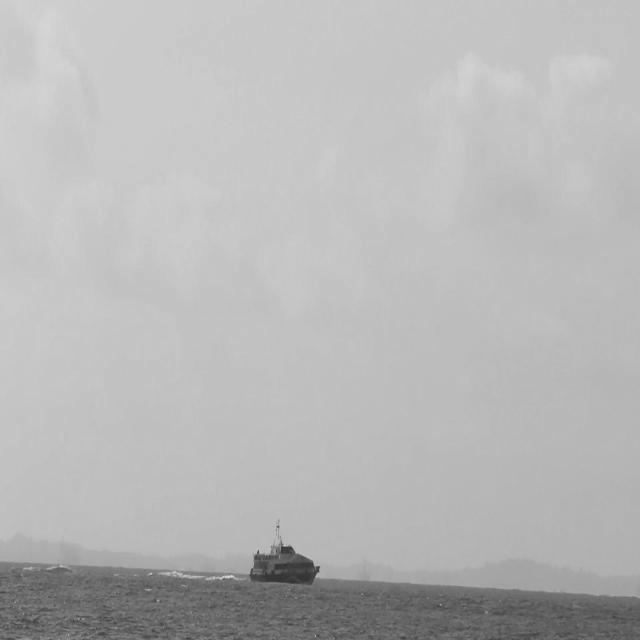ship: (250, 517, 324, 586)
